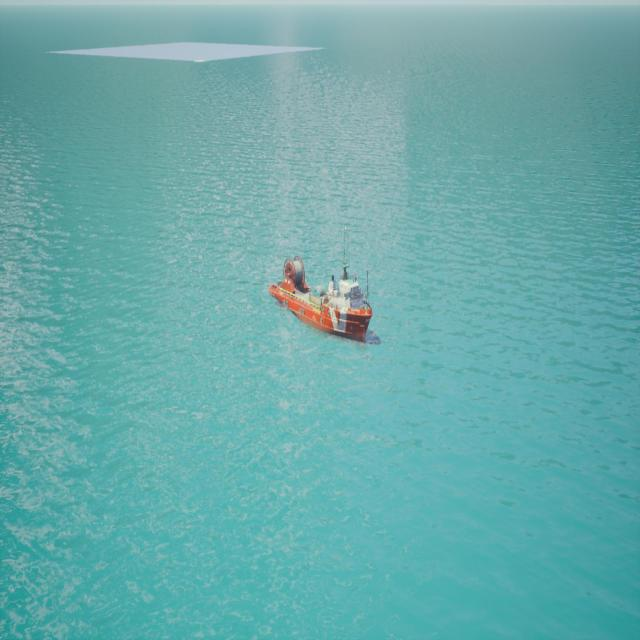tug boat: (269, 228, 378, 346)
